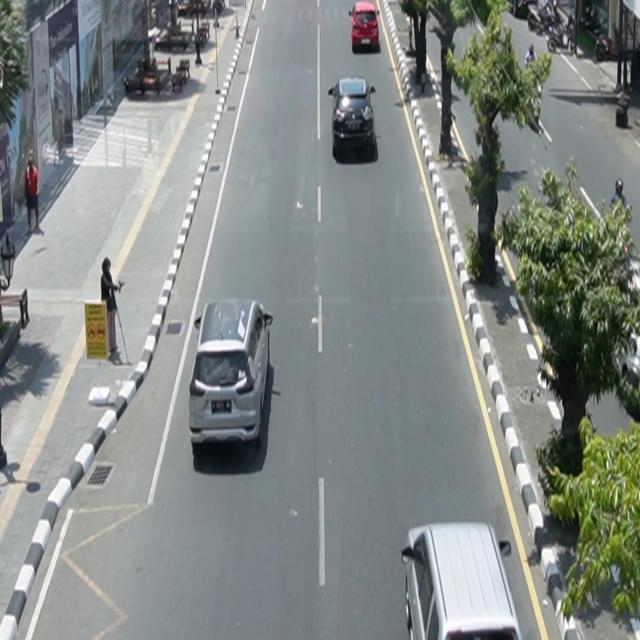car: (402, 522, 524, 640), (189, 299, 274, 452), (329, 78, 377, 155), (350, 2, 381, 53)
